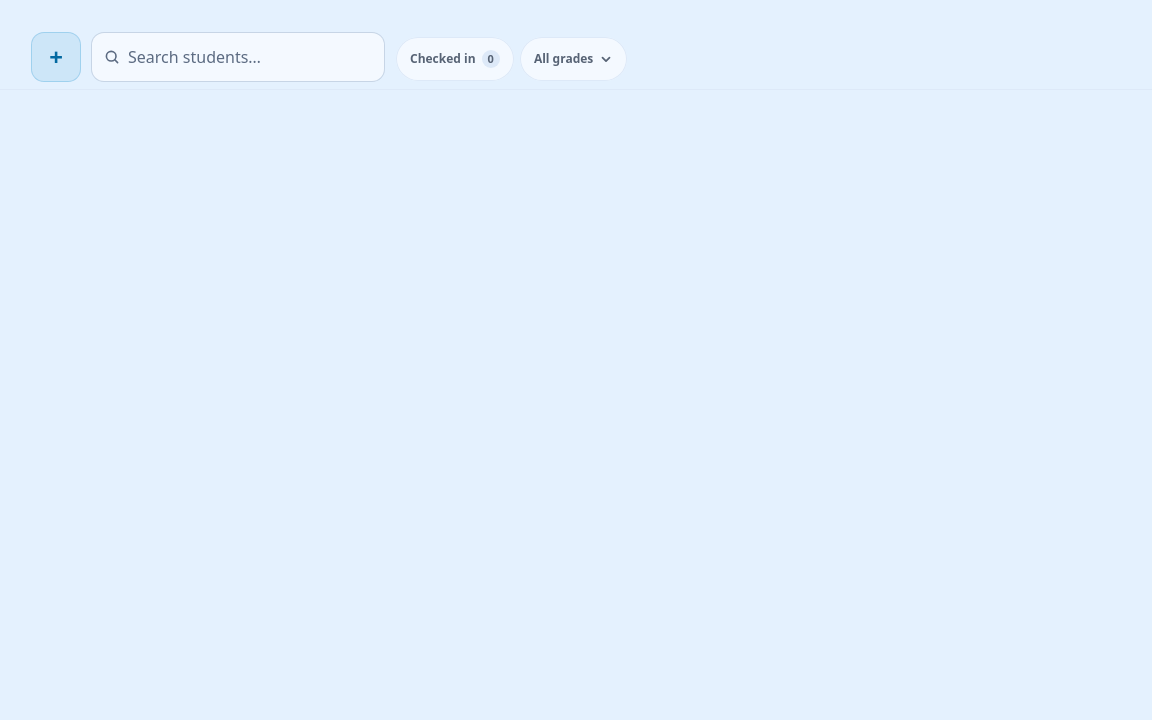
a past gathering › asks before a quick-added visitor is written, too
The width and height of the screenshot is (1152, 720).
Click the button named "Quick add a visitor": [56, 57] box [32,33,80,81]
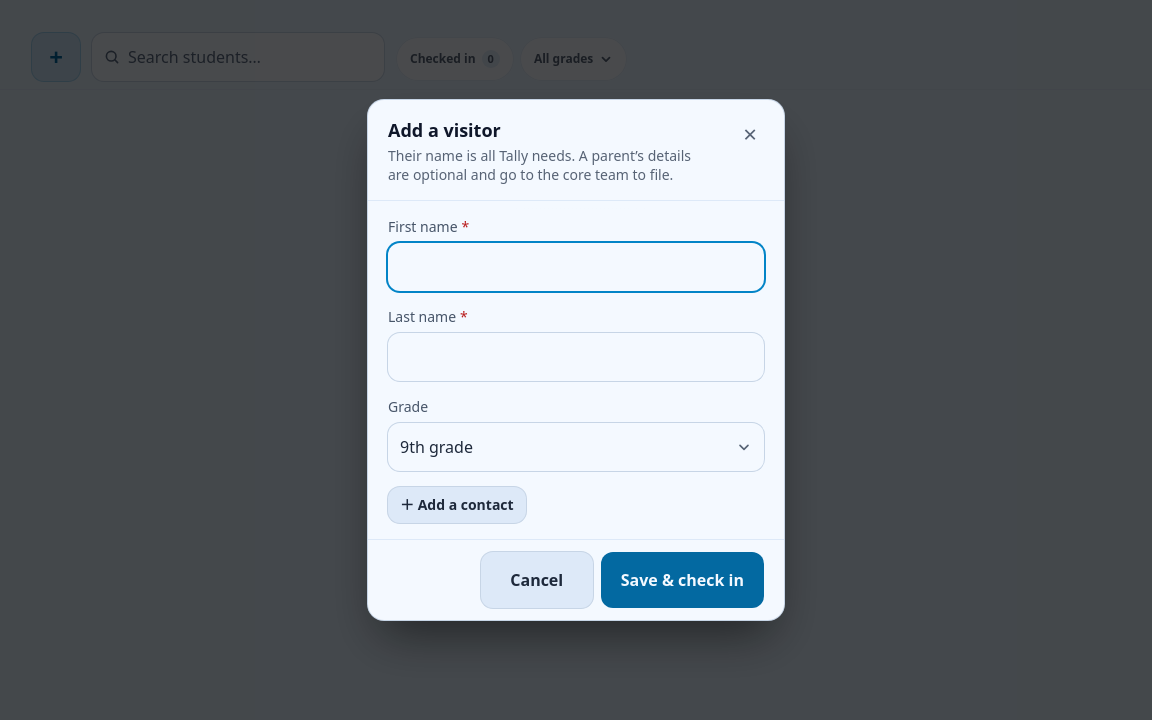
In the field labelled "First name*": [576, 267] box [388,243,764,291], type "Robin"
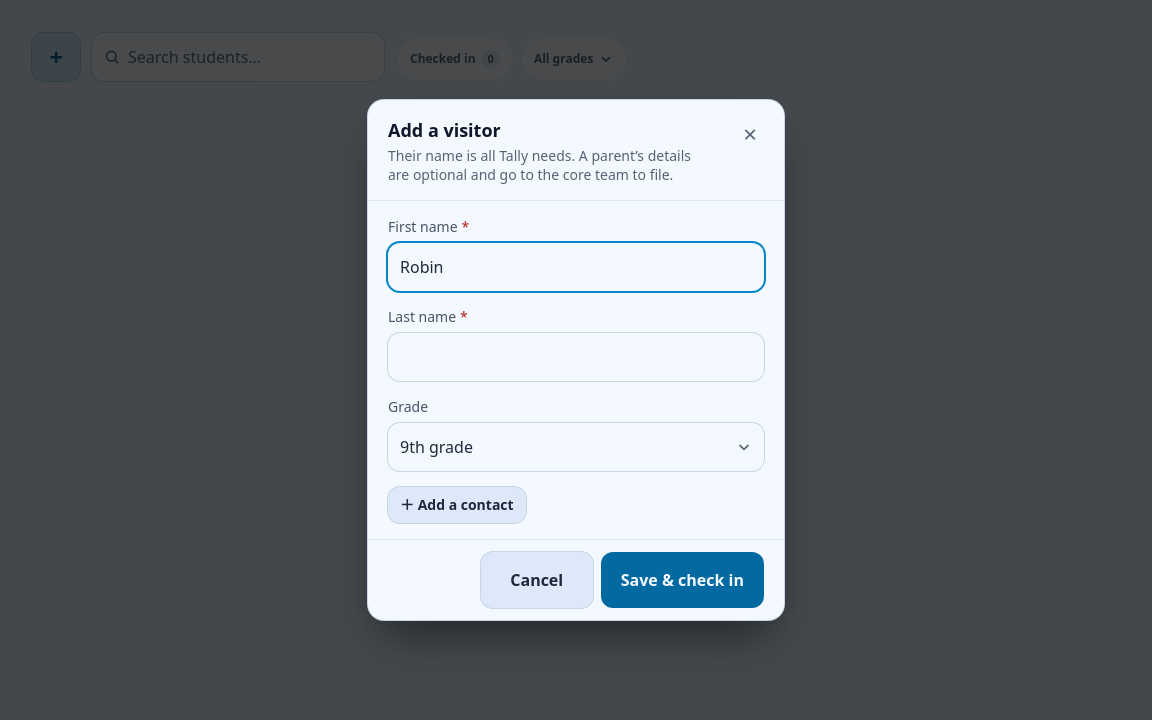
In the field labelled "Last name*": [576, 357] box [388,333,764,381], type "Fields"
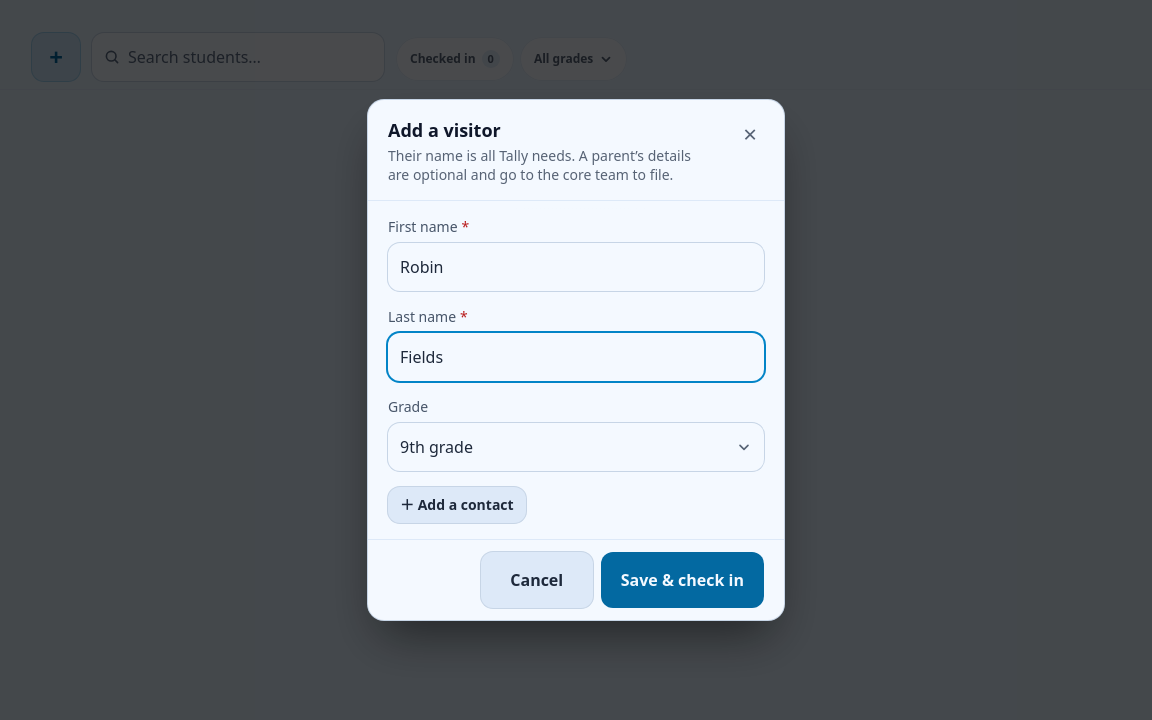
Click the button "Save & check in": [682, 580] box [601,552,764,608]
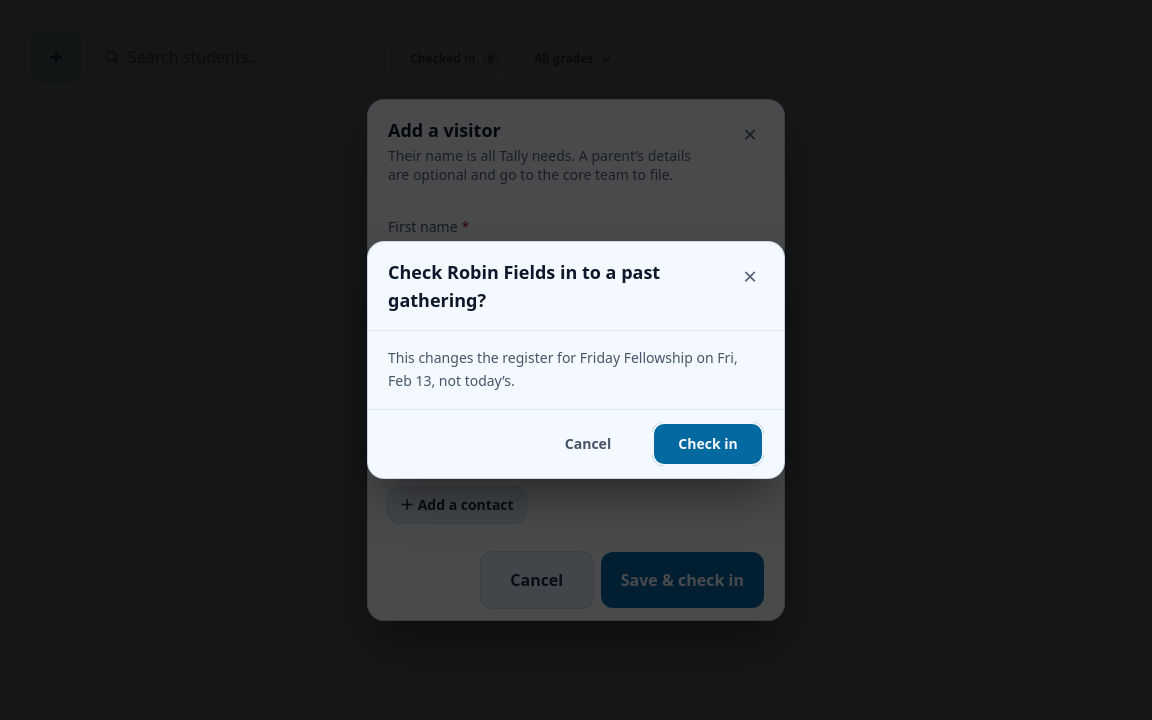
Check: the heading "Check Robin Fields in to a past gathering?" is shown, box [388,260,660,312]
Click the button "Check in": [708, 444] box [652,422,764,466]
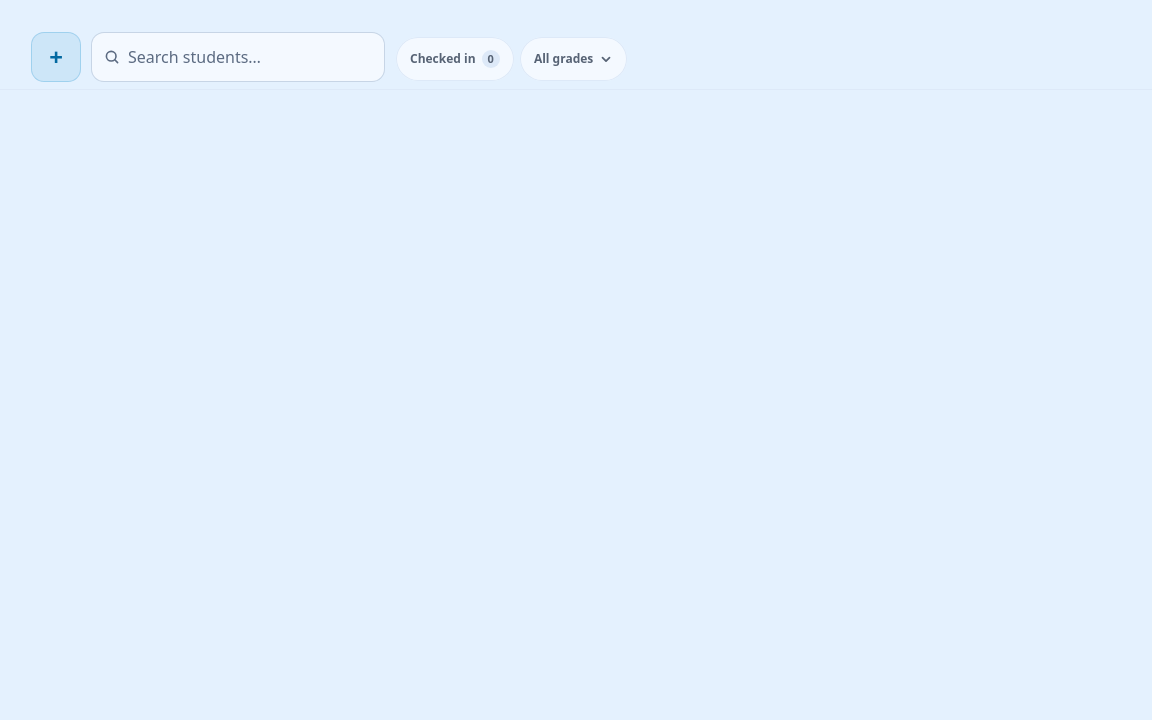
Check: the dialog is gone
